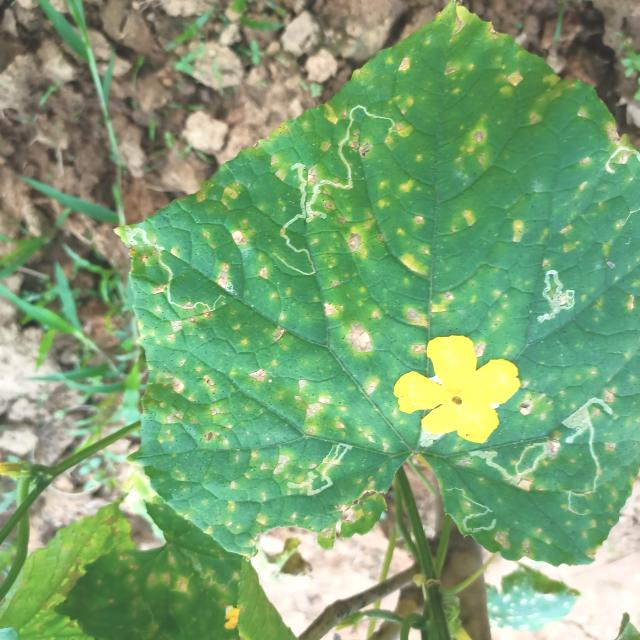disease_cucumber: (147, 11, 635, 544)
